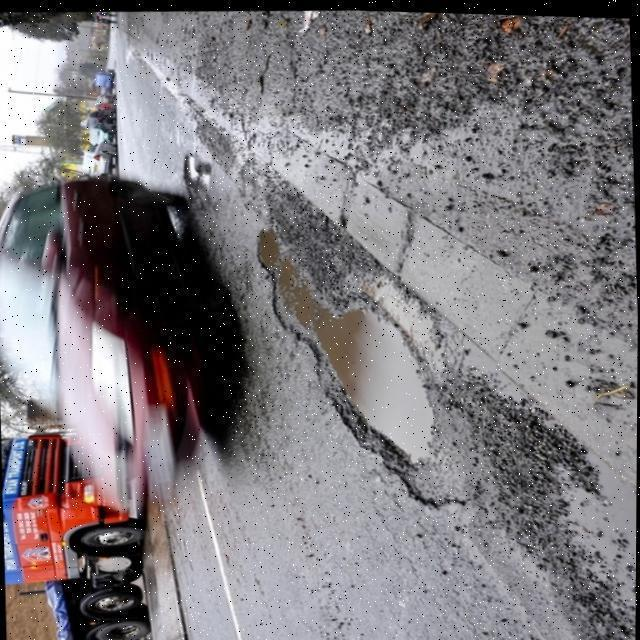Pothole: (255, 175, 494, 513), (183, 151, 209, 195)
